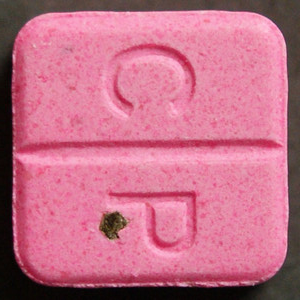Square: (11, 12, 287, 287)
